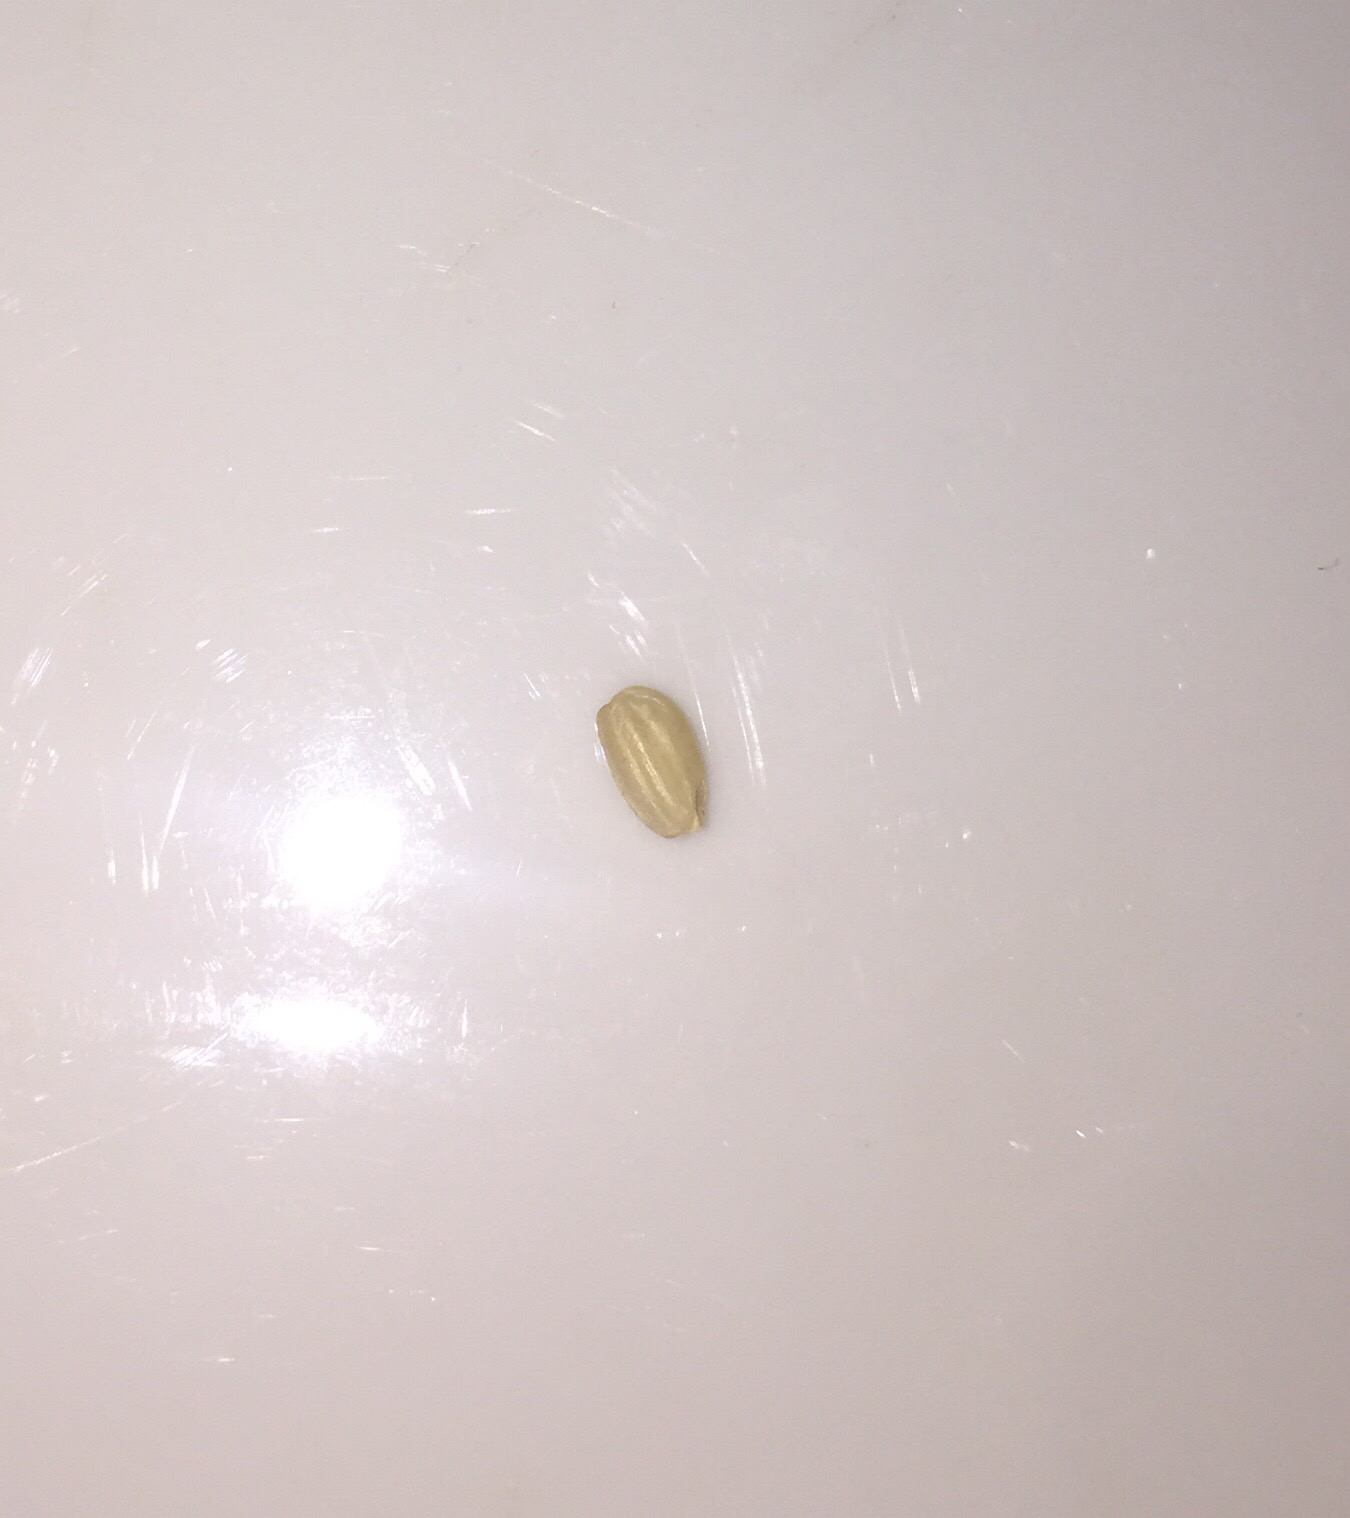Gao Lut Bac: (590, 662, 738, 863)
